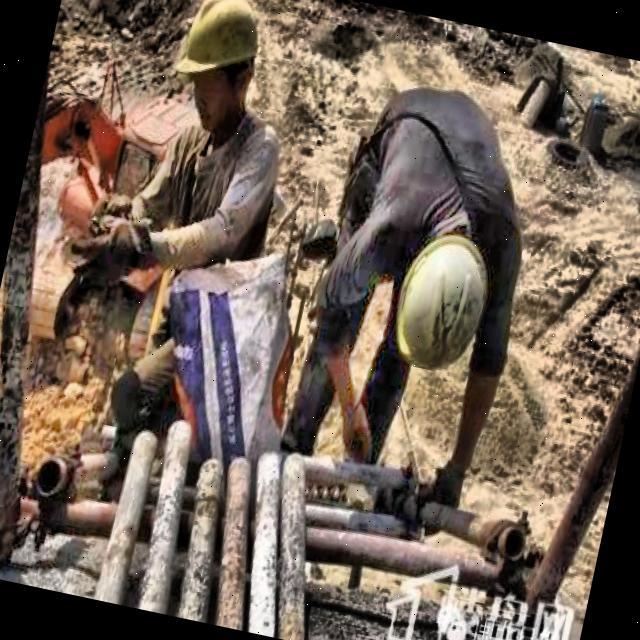helmet: (373, 218, 508, 408), (156, 0, 282, 153)
